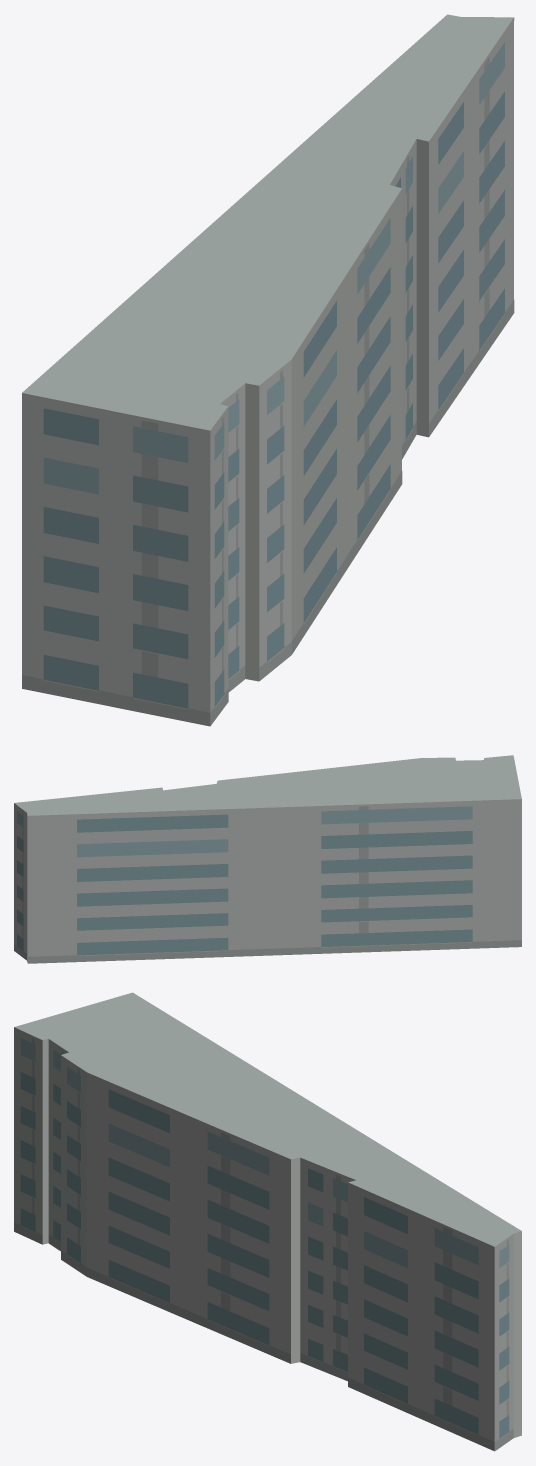
Rendered from survey-upis-32492510.glb.
3 renders of one model, top to bottom at view 1: azimuth 30°, elevation 25°; view 2: azimuth 150°, elevation 25°; view 3: azimuth 270°, elevation 25°, orthographic. The views are drawn at different scales.
Parts seen in each view (by area): view 1: survey-upis-32492510.tmp; view 2: survey-upis-32492510.tmp; view 3: survey-upis-32492510.tmp.
Part boxes in pixels (x1,y1,x2,y2): survey-upis-32492510.tmp: [22, 14, 514, 726]; survey-upis-32492510.tmp: [14, 755, 521, 963]; survey-upis-32492510.tmp: [14, 992, 521, 1451].
Size of the model in its own units: 54.29 by 20.35 by 45.8.
